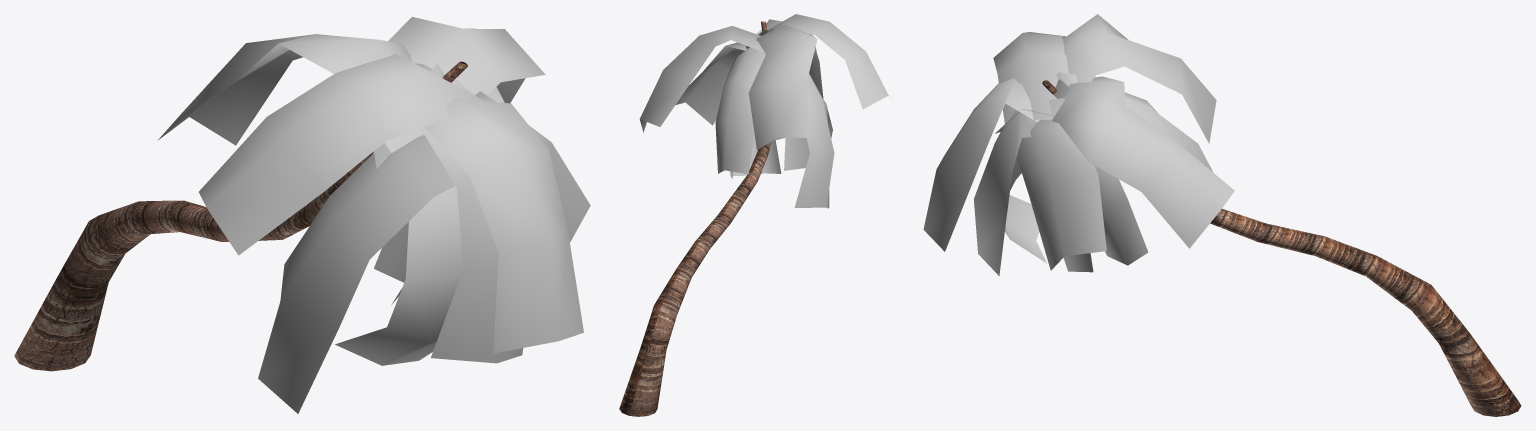
The model's file is palm4.dae.
3 views of the same model, side by side, from view 1: azimuth 30°, elevation 25°; view 2: azimuth 150°, elevation 25°; view 3: azimuth 270°, elevation 25° (orthographic). The views are drawn at different scales.
Parts seen in each view (by area): view 1: meshU3D; view 2: meshU3D; view 3: meshU3D.
Boxes of the visible parts, bbox=[...] form: meshU3D: bbox=[14, 17, 590, 413]; meshU3D: bbox=[619, 14, 891, 416]; meshU3D: bbox=[923, 14, 1521, 416].
Bounding box in the file's own units: 86.62 × 112 × 164.
